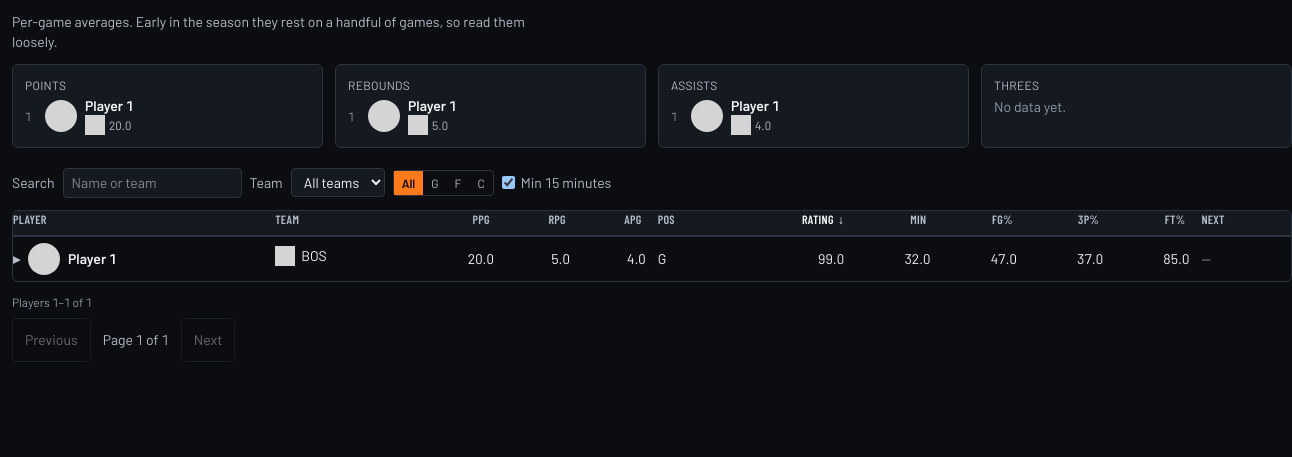
PlayerHubPanel › gives the player's record a Close button, and puts the focus in it
Expected: the text "Player 1" is shown, [28,242,116,274]
Click the button "▸ Player 1": {"x": 65, "y": 258} [13,242,116,274]
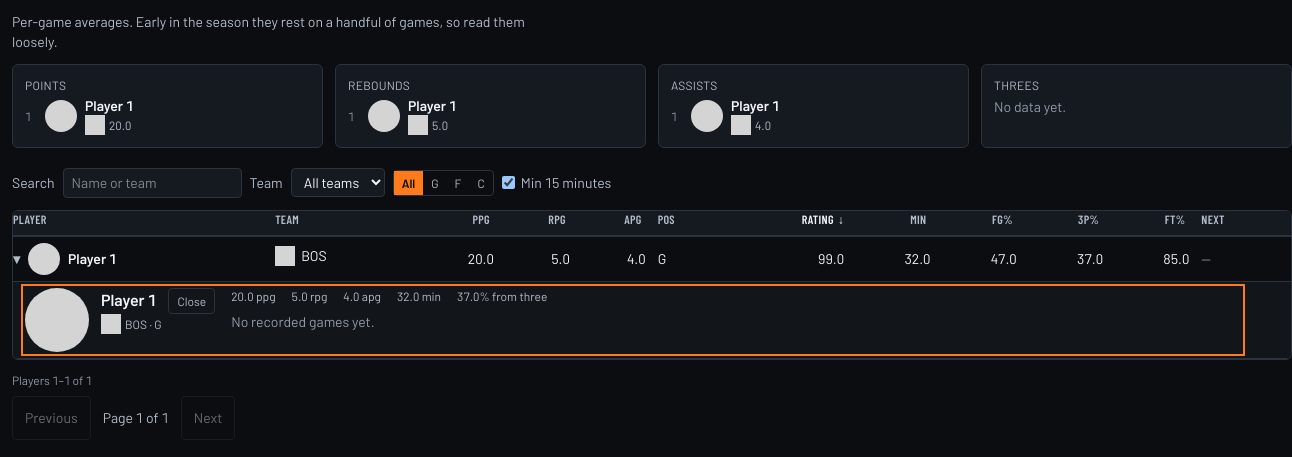
Result: the button with test id "player-record-close" is shown
// And the Close button puts it away.
Click the button with test id "player-record-close": {"x": 192, "y": 300} [168,288,215,314]
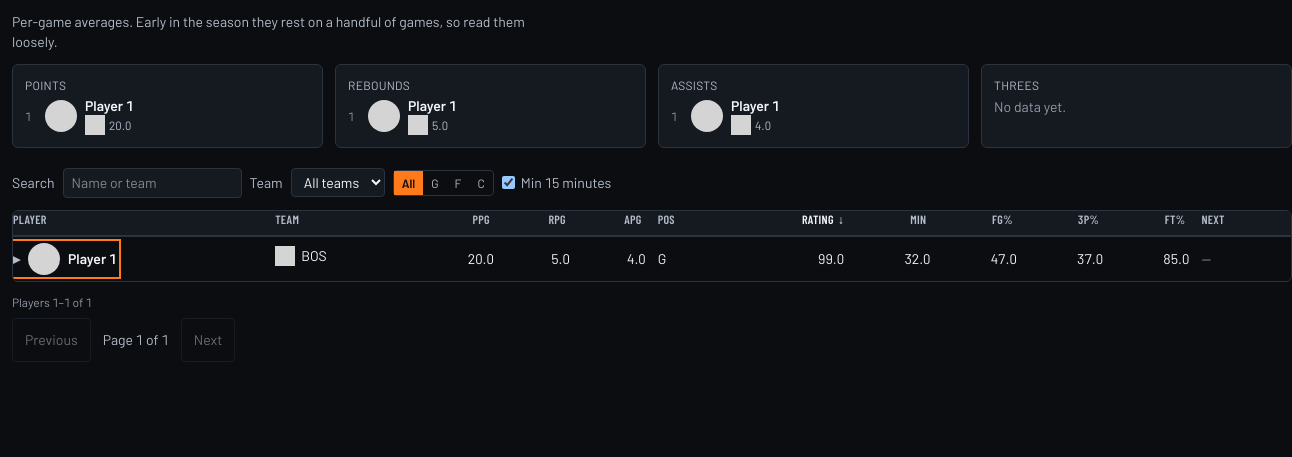
Result: the element with test id "player-detail-1" is gone
